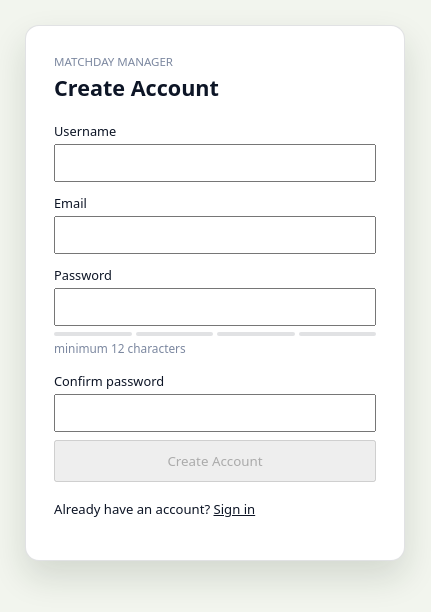
RegisterScreen › shows an inline, recoverable username-conflict error without losing the typed value (UIR-180)
The width and height of the screenshot is (431, 612).
Type "takenname" into the field labelled "Username" at [215, 163], box [54,144,376,182]
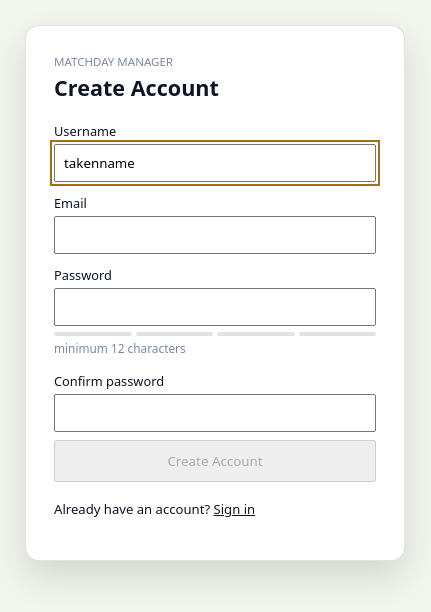
Type "new@example.com" into the field labelled "Email" at [215, 235], box [54,216,376,254]
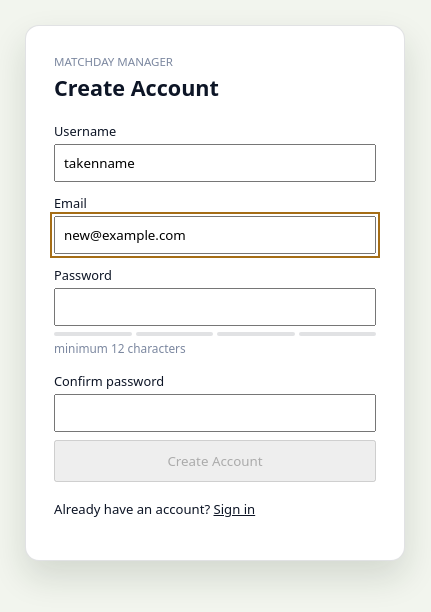
Type "Tr0ub4dor&Zebra!" into the password field labelled "Password" at [215, 307], box [54,288,376,326]
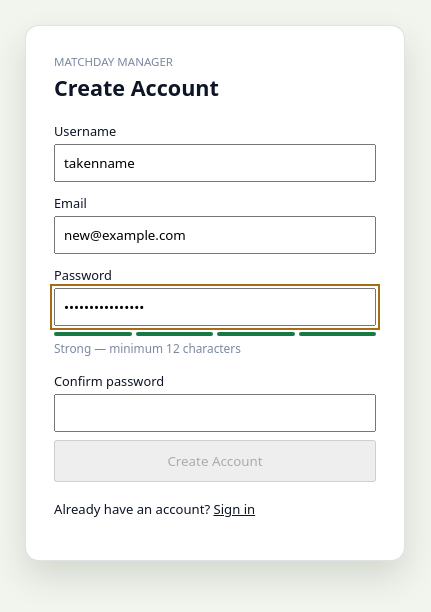
Type "Tr0ub4dor&Zebra!" into the password field labelled "Confirm password" at [215, 413], box [54,394,376,432]
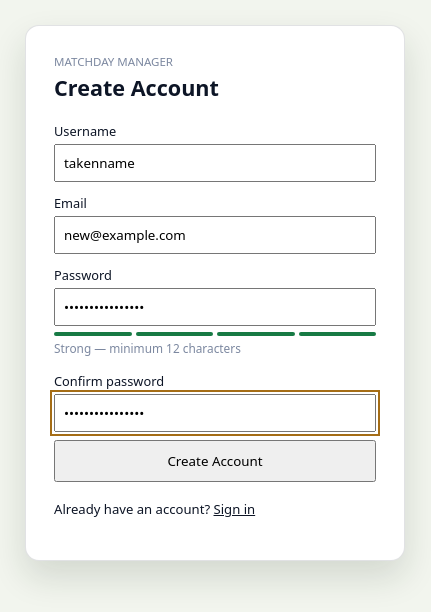
Click the button "Create Account" at [215, 461], box [54,440,376,482]
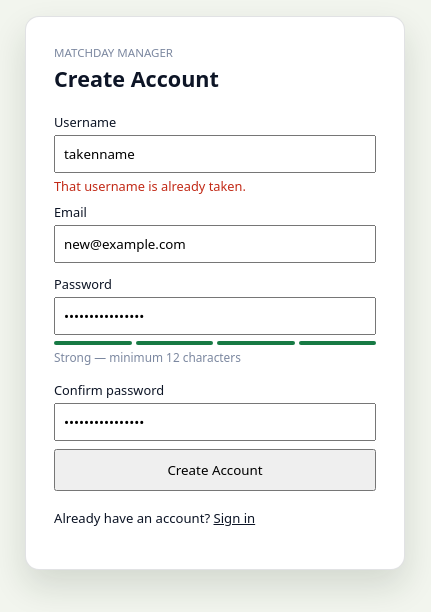
Result: the text "That username is already taken." is shown at [54,177,246,195]
